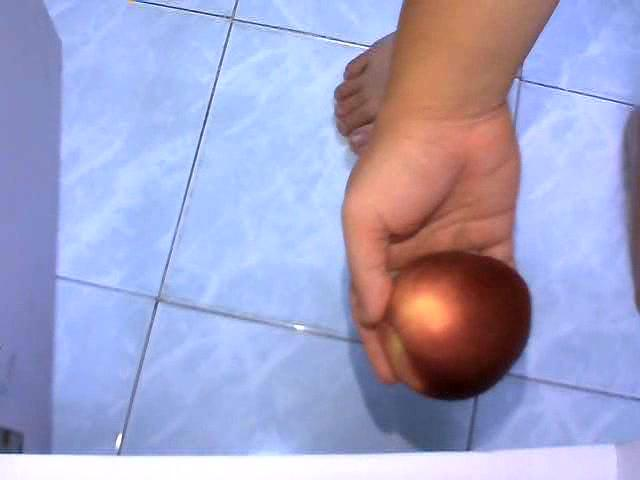apple: (379, 249, 533, 400)
